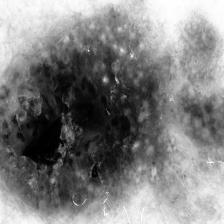Benign Marking or Mole: (0, 4, 224, 210)
